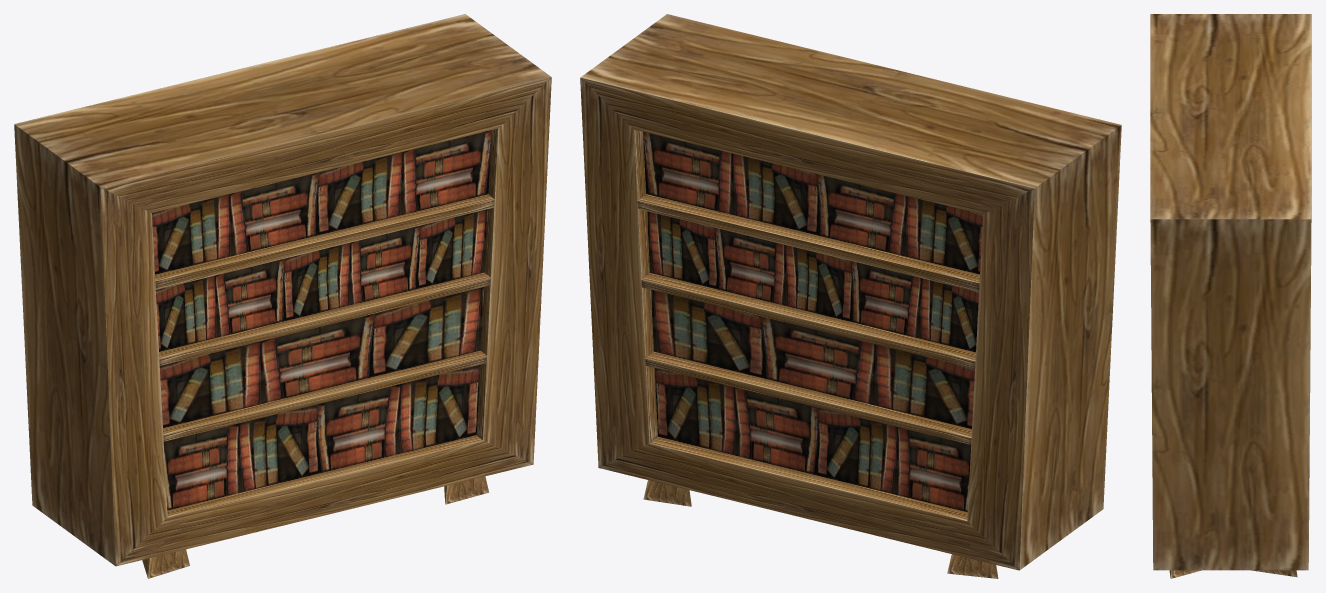
Rendered from abbeyshelf02.obj.
3 renders of one model, left to right at view 1: azimuth 30°, elevation 25°; view 2: azimuth 150°, elevation 25°; view 3: azimuth 270°, elevation 25°, orthographic. The views are drawn at different scales.
Parts seen in each view (by area): view 1: abbeyshelf02; view 2: abbeyshelf02; view 3: abbeyshelf02.
Part boxes in pixels (x1,y1,x2,y2): abbeyshelf02: (14, 14, 551, 578); abbeyshelf02: (580, 14, 1121, 578); abbeyshelf02: (1150, 14, 1311, 578).
Bounding box in the file's own units: 5.44 × 4.73 × 1.8.
Materials: 1 (1 with a texture image).
